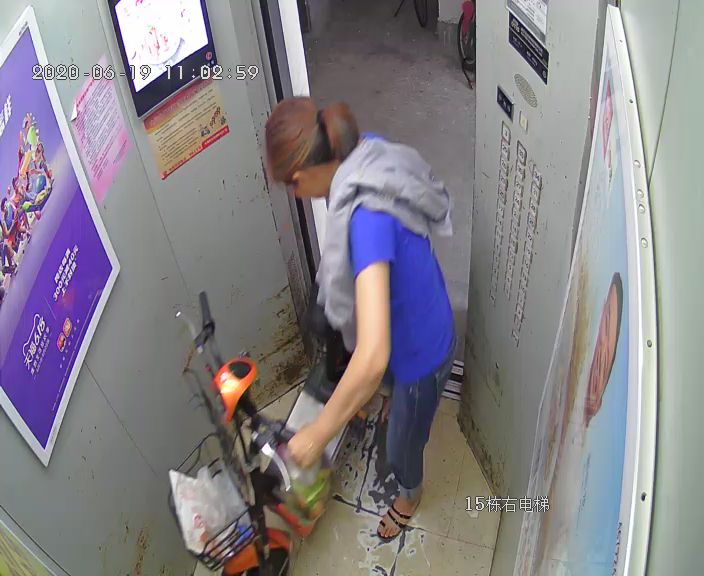Electric-bicycle: (164, 292, 352, 568)
